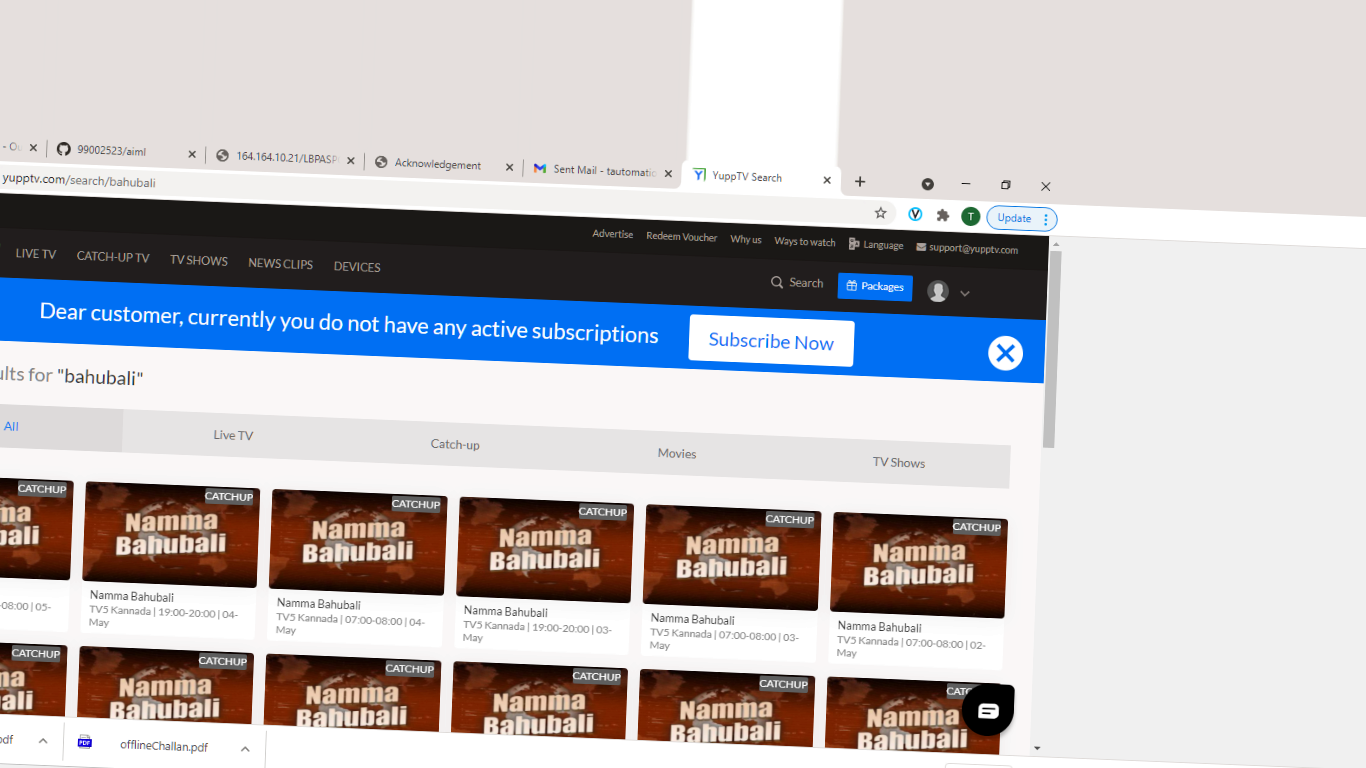profileicon: (919, 267, 977, 311)
resultsfound: (1, 352, 153, 405)
searchicon: (766, 266, 829, 300)
